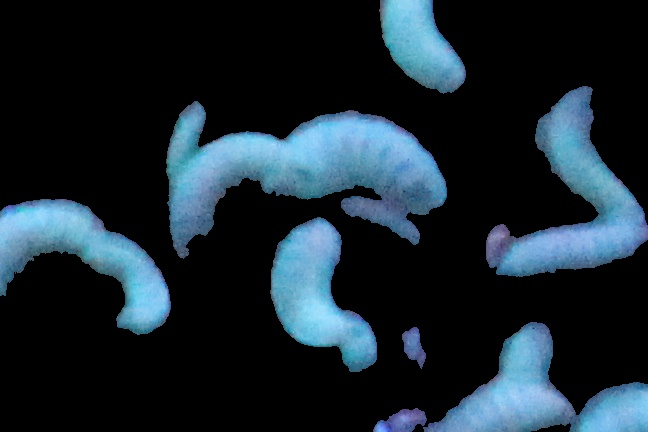larvae: (257, 110, 451, 212), (168, 128, 282, 255), (530, 85, 636, 215), (1, 195, 105, 320), (266, 214, 343, 339), (432, 368, 575, 432), (89, 230, 172, 339), (378, 1, 472, 89), (499, 223, 648, 278), (156, 101, 207, 167)
